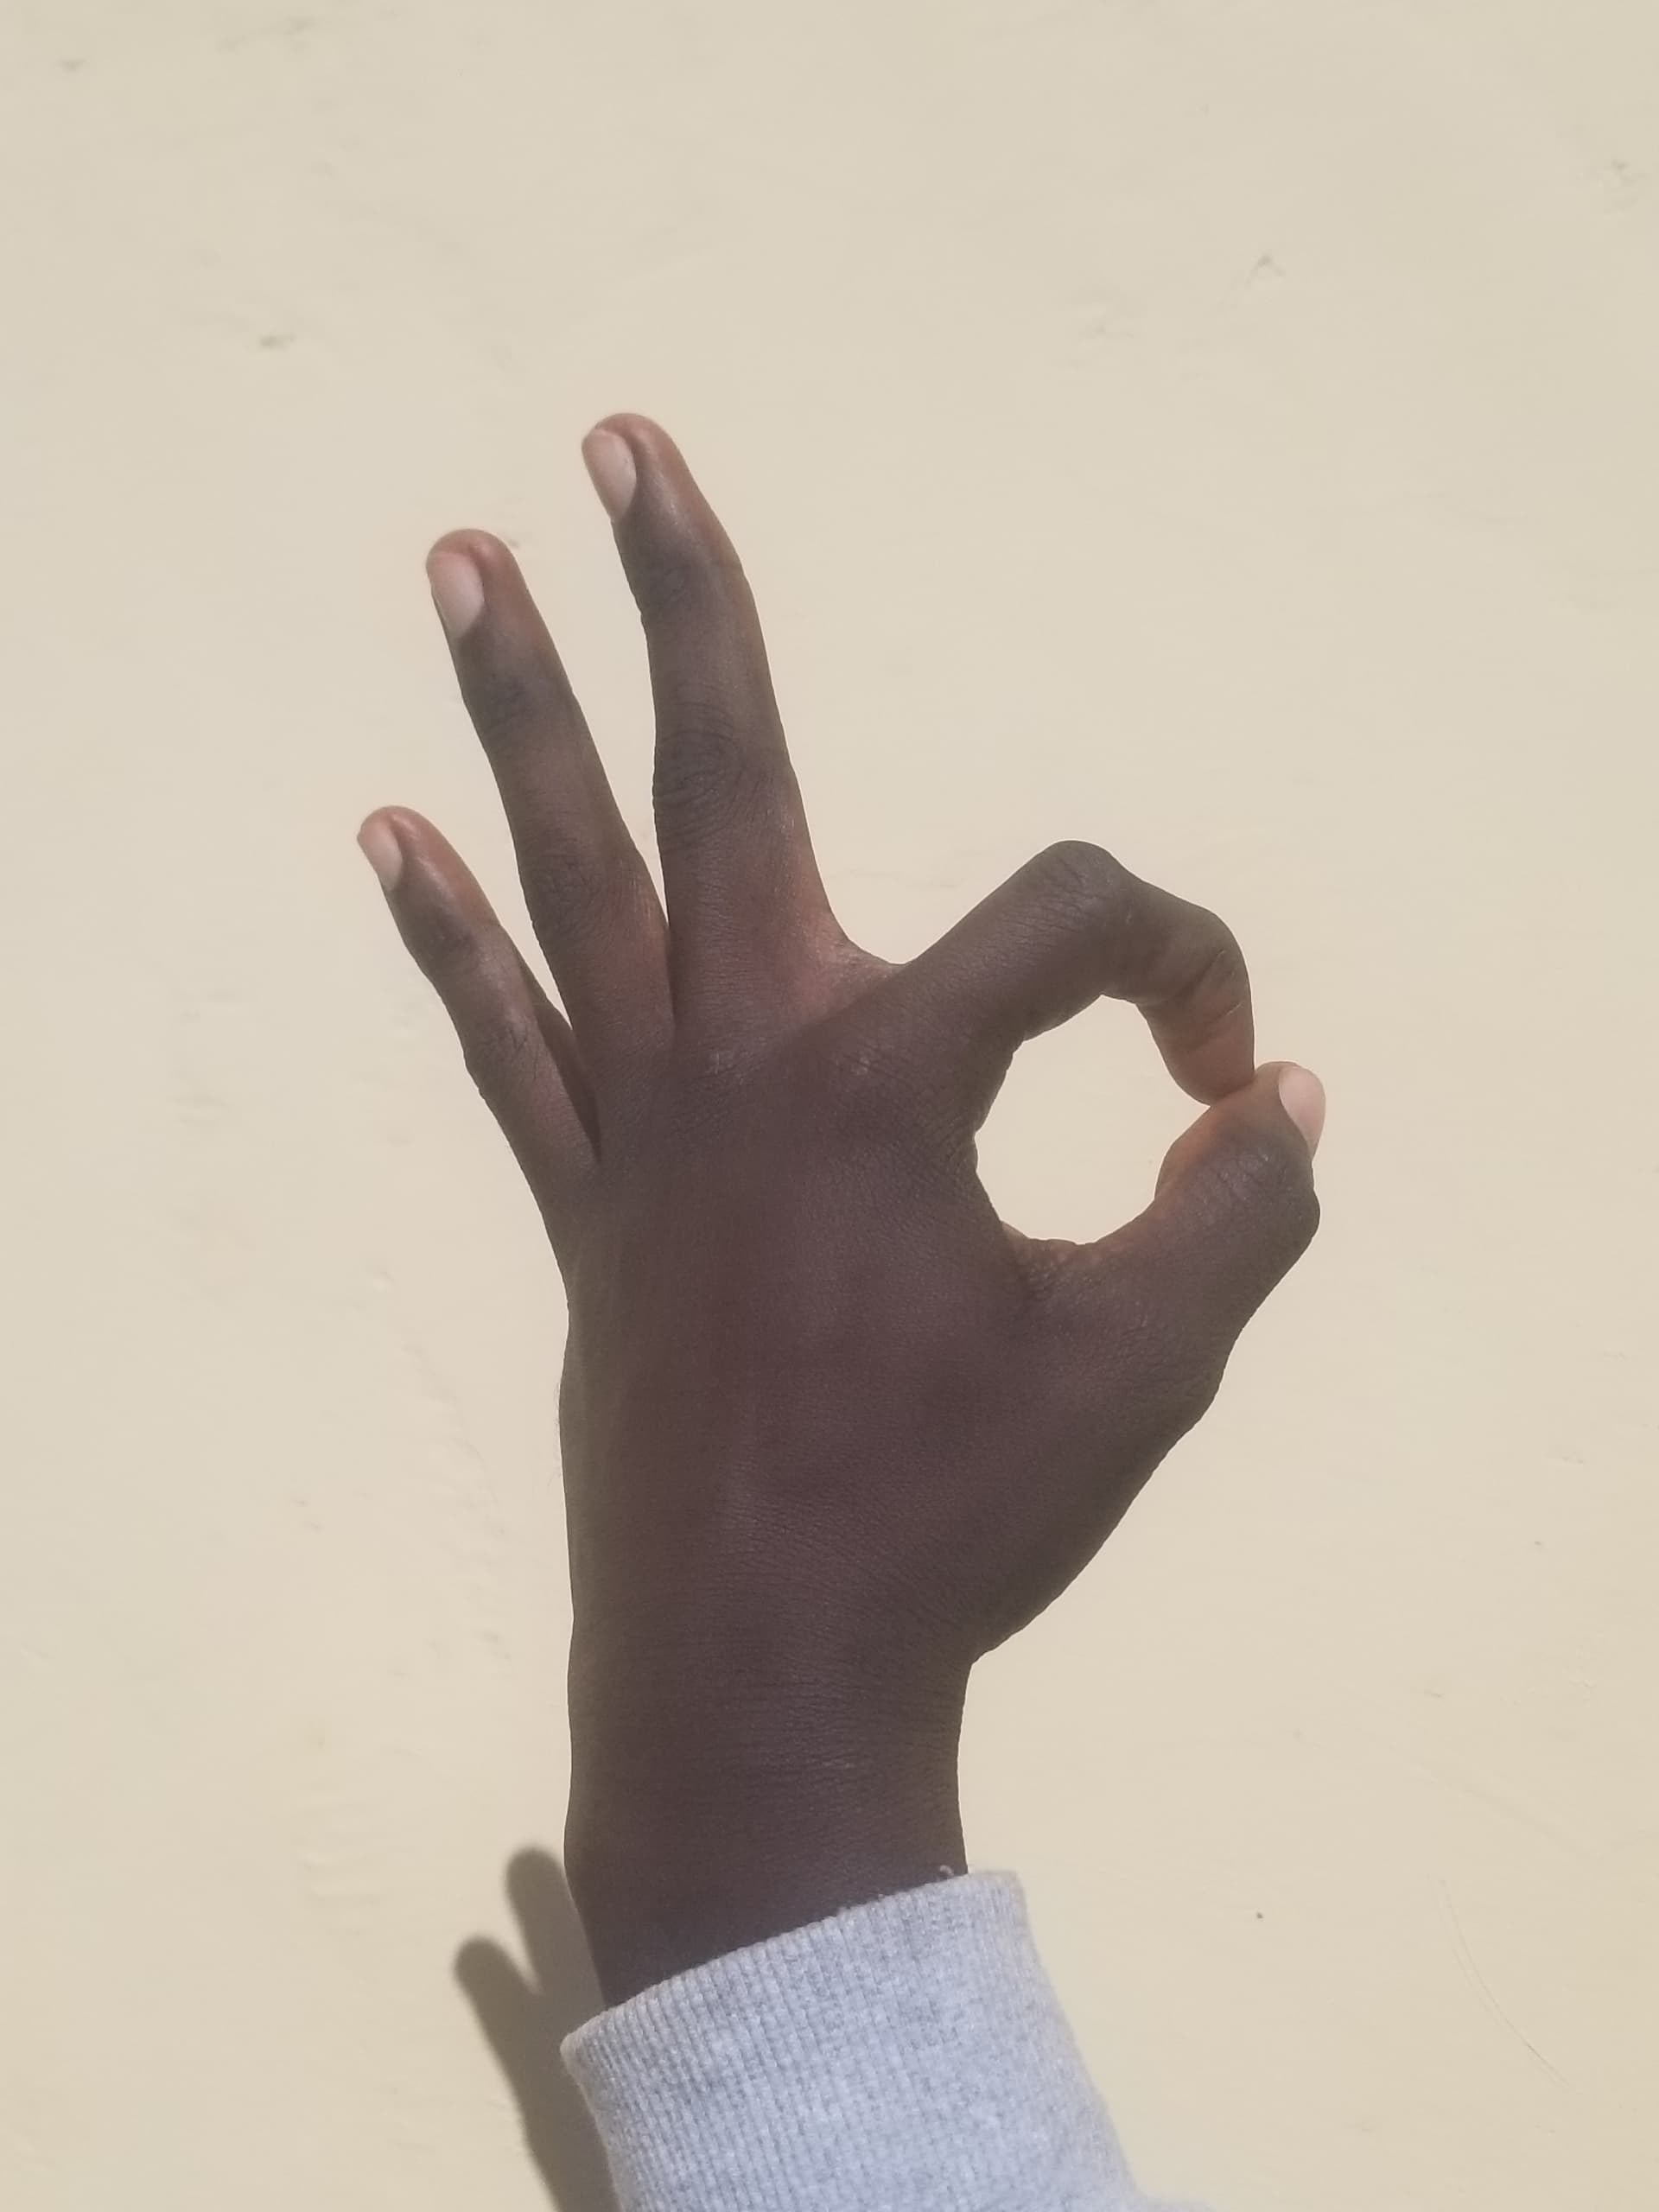okay: (284, 362, 1443, 2106)
